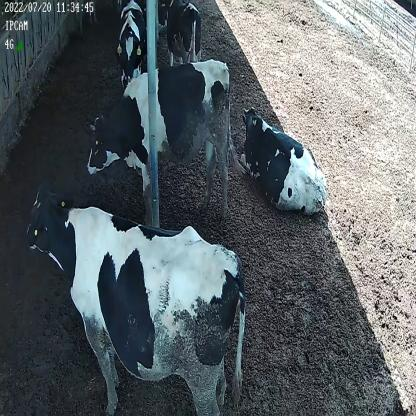cow: (25, 177, 246, 414), (88, 59, 232, 227), (237, 103, 329, 218), (163, 0, 202, 66), (116, 3, 143, 84)
